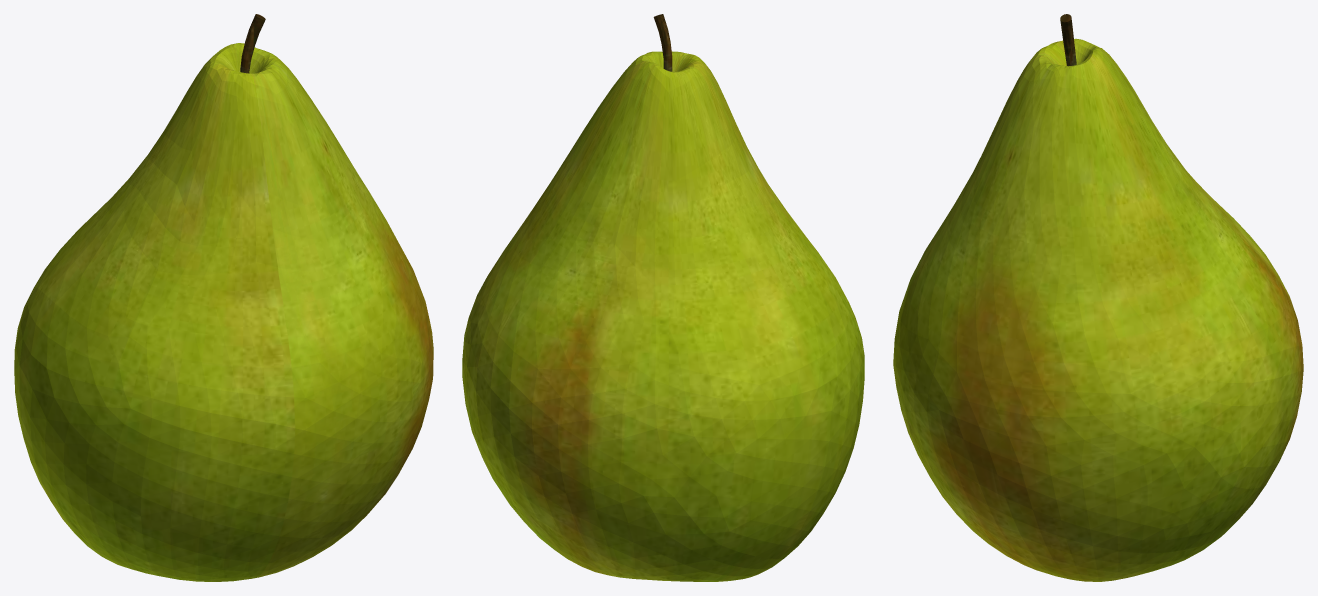
The model's file is pear.obj.
3 views of the same model, side by side, from view 1: azimuth 30°, elevation 25°; view 2: azimuth 150°, elevation 25°; view 3: azimuth 270°, elevation 25° (orthographic). The views are drawn at different scales.
Visible parts, largest first — view 1: Pear_Bosc_Smith02, Pear_Bosc_Stem02; view 2: Pear_Bosc_Smith02, Pear_Bosc_Stem02; view 3: Pear_Bosc_Smith02, Pear_Bosc_Stem02.
Part boxes in pixels (x1,y1,x2,y2): Pear_Bosc_Smith02: (14, 43, 433, 581); Pear_Bosc_Stem02: (240, 14, 265, 73); Pear_Bosc_Smith02: (462, 51, 864, 581); Pear_Bosc_Stem02: (653, 14, 672, 71); Pear_Bosc_Smith02: (893, 38, 1303, 581); Pear_Bosc_Stem02: (1060, 14, 1076, 66).
Size of the model in its own units: 52.35 by 72.92 by 50.74.
